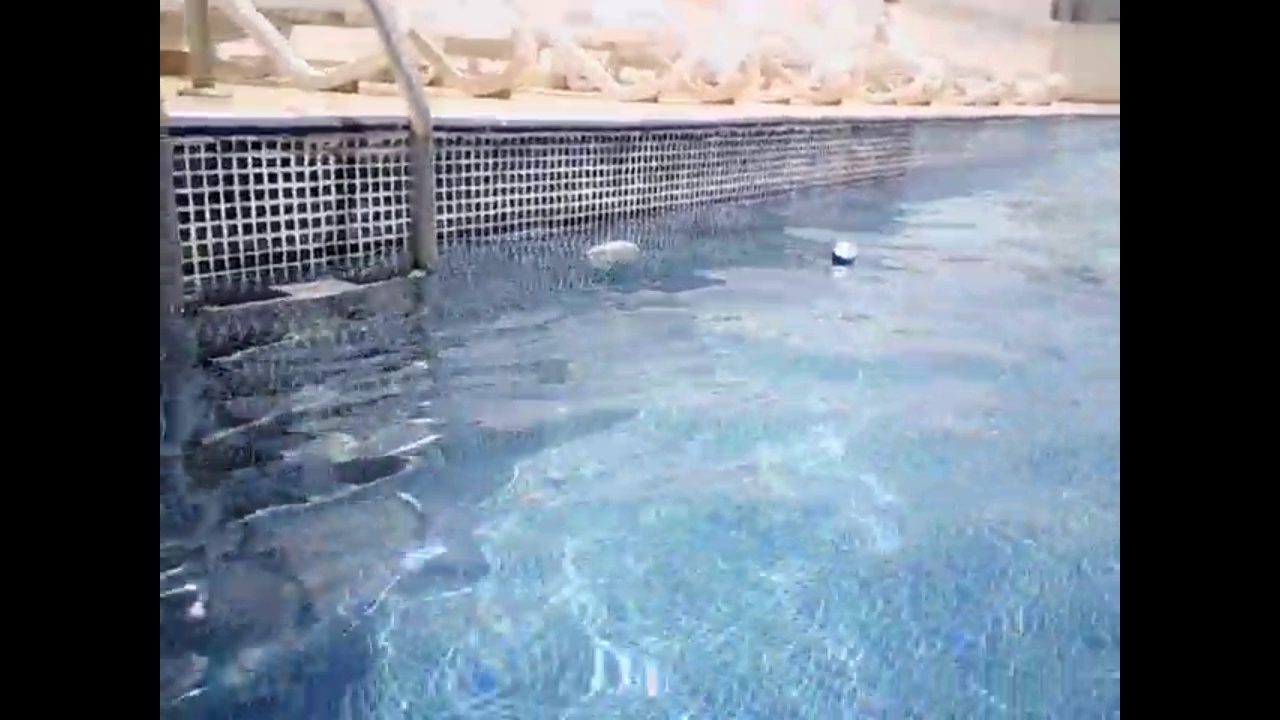debris: (826, 235, 863, 282)
